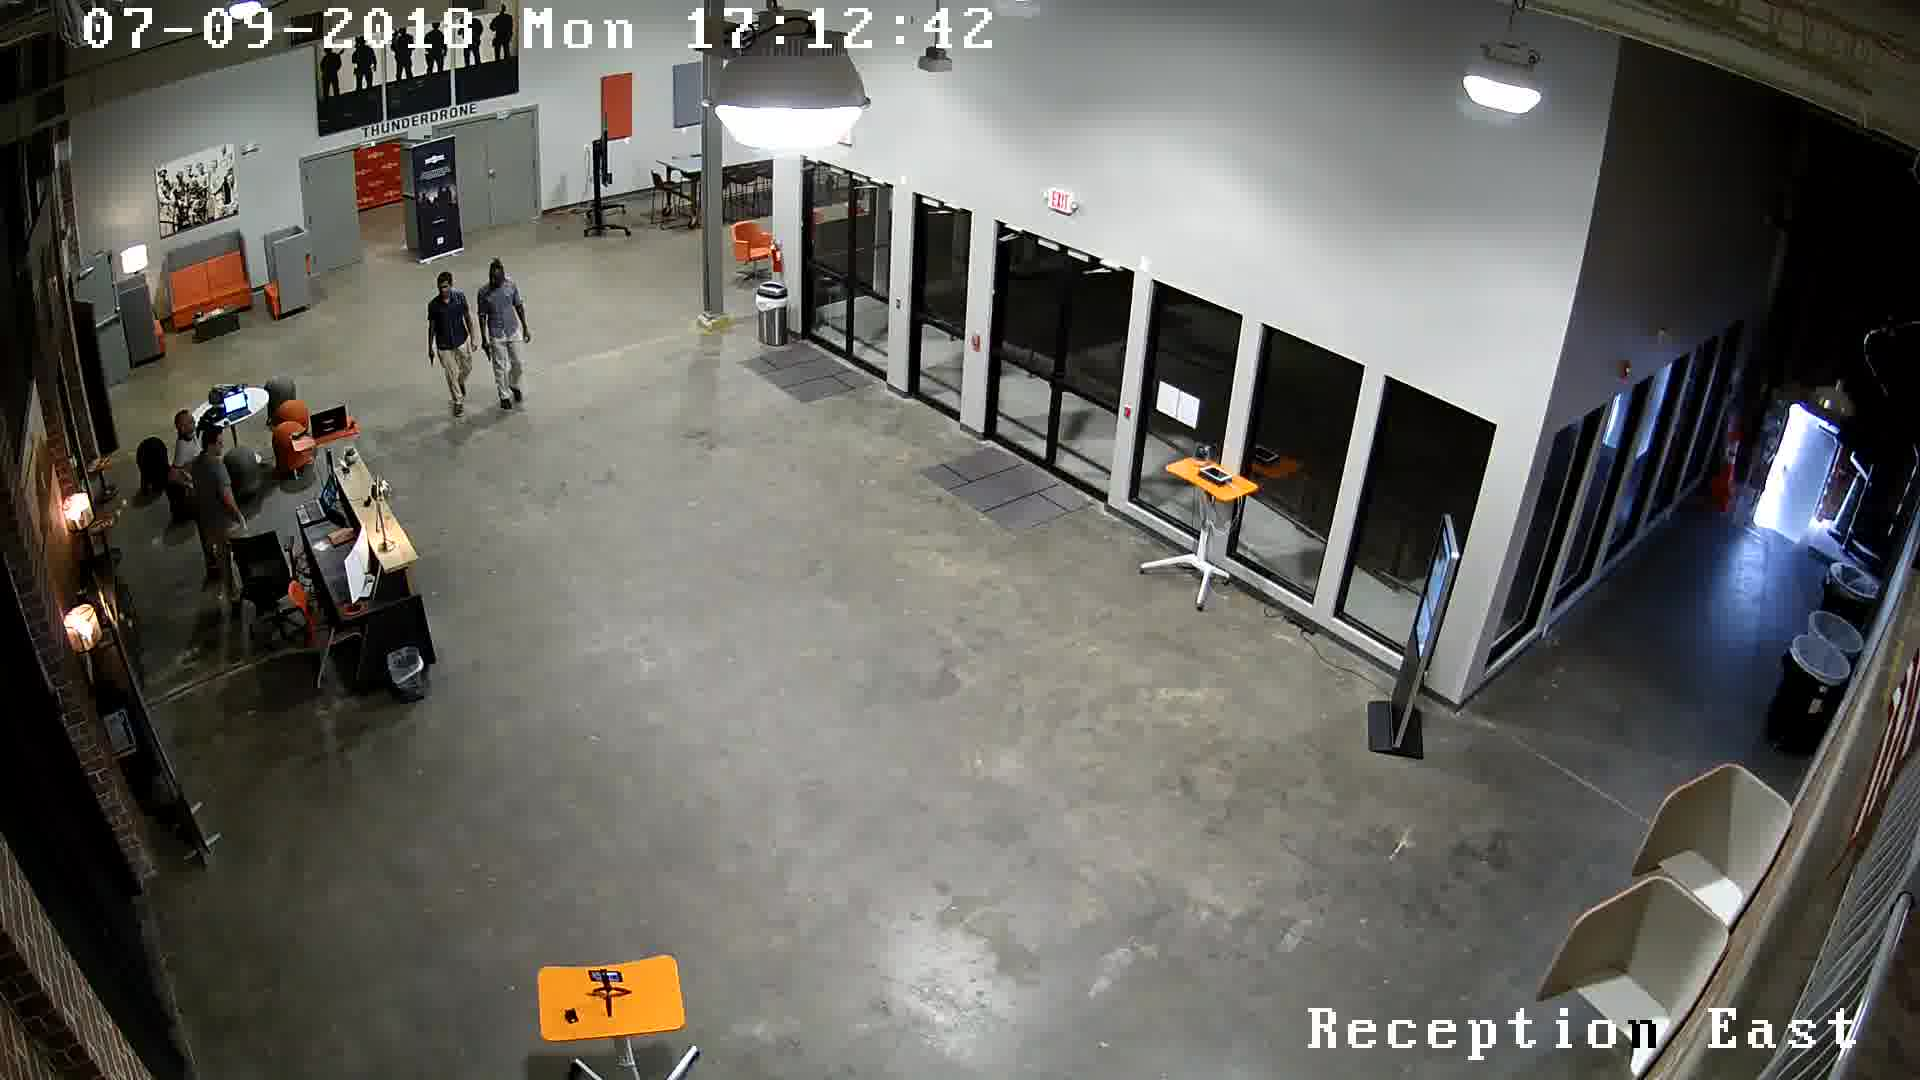pistol: (411, 345, 440, 377), (477, 334, 497, 367)
